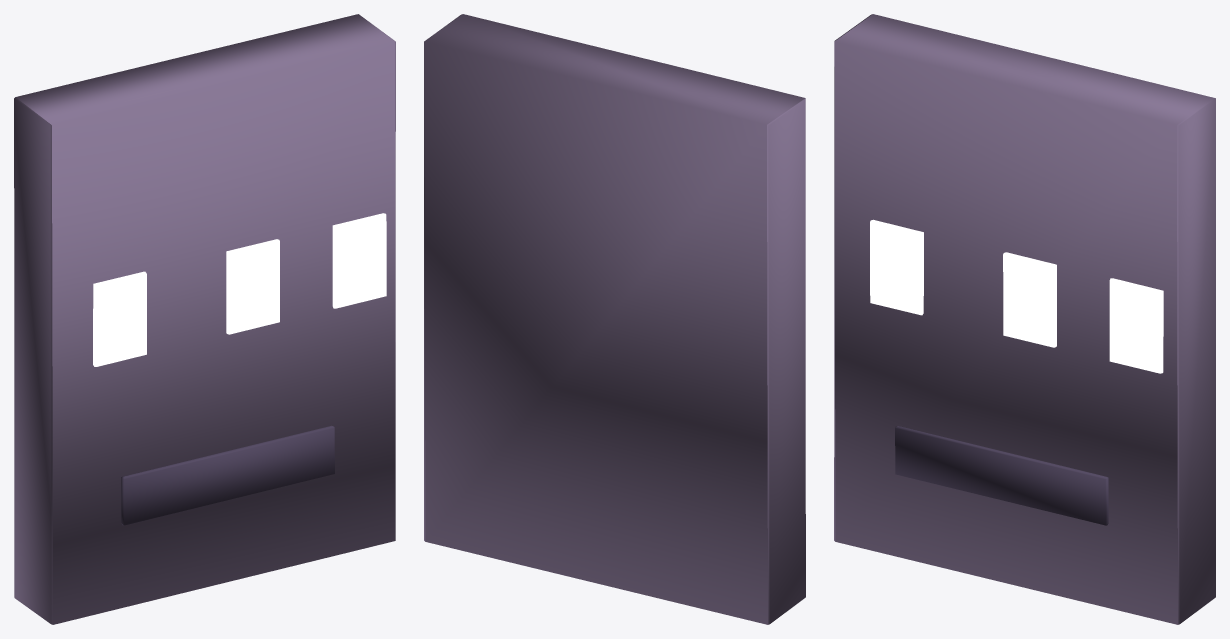
File: SM_Labor_LabWall_LOD2.fbx
3 views of the same model, side by side, from view 1: azimuth 30°, elevation 25°; view 2: azimuth 150°, elevation 25°; view 3: azimuth 330°, elevation 25° (orthographic).
Visible parts, largest first — view 1: SM_Labor_LabWall_LOD2; view 2: SM_Labor_LabWall_LOD2; view 3: SM_Labor_LabWall_LOD2.
Boxes of the visible parts, x1,y1,x2,y2 form: SM_Labor_LabWall_LOD2: (14,14,395,624); SM_Labor_LabWall_LOD2: (424,14,805,624); SM_Labor_LabWall_LOD2: (834,14,1215,624).
Bounding box in the file's own units: 2.59 × 3.59 × 0.5656.
